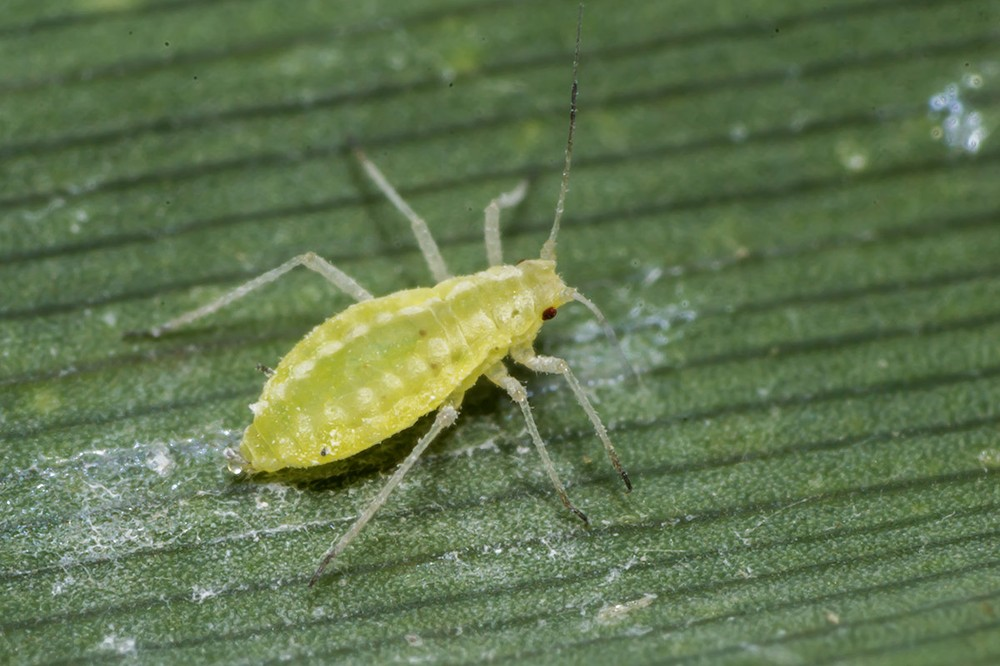Pulgon: (168, 122, 676, 569)
